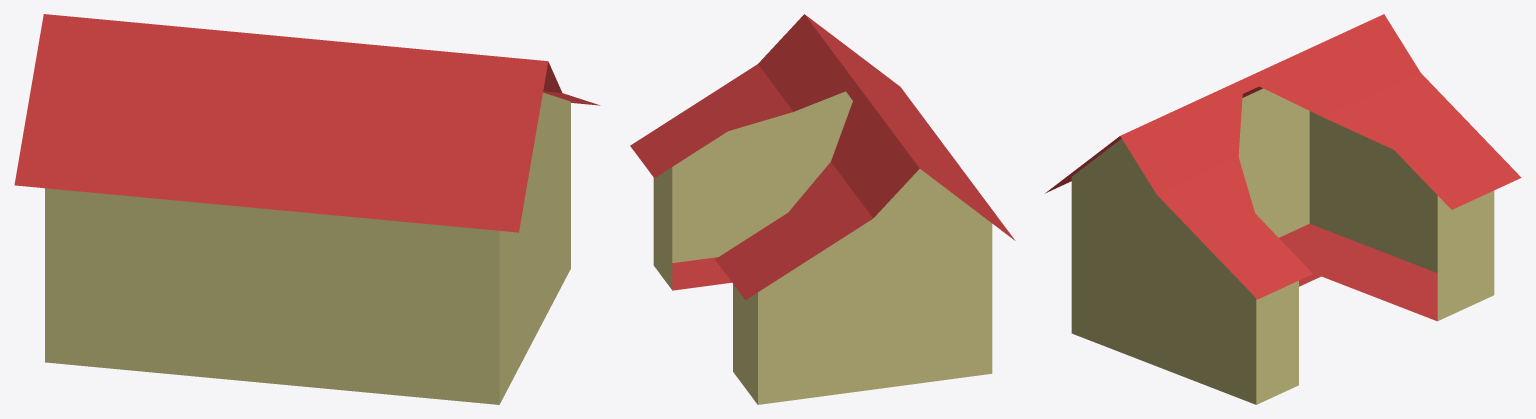
The picture shows the model from 3 angles, left to right: view 1: azimuth 30°, elevation 25°; view 2: azimuth 150°, elevation 25°; view 3: azimuth 270°, elevation 25°; orthographic projection. The views are drawn at different scales.
Size of the model in its own units: 24.99 by 24.67 by 12.97.
